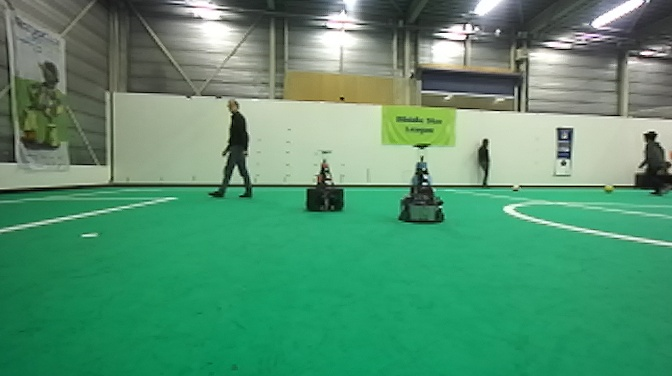ball: (601, 182, 614, 196), (509, 181, 523, 194)
human: (207, 98, 255, 200), (638, 130, 670, 196), (473, 133, 495, 189)
robot: (396, 141, 447, 225), (306, 148, 347, 212)
